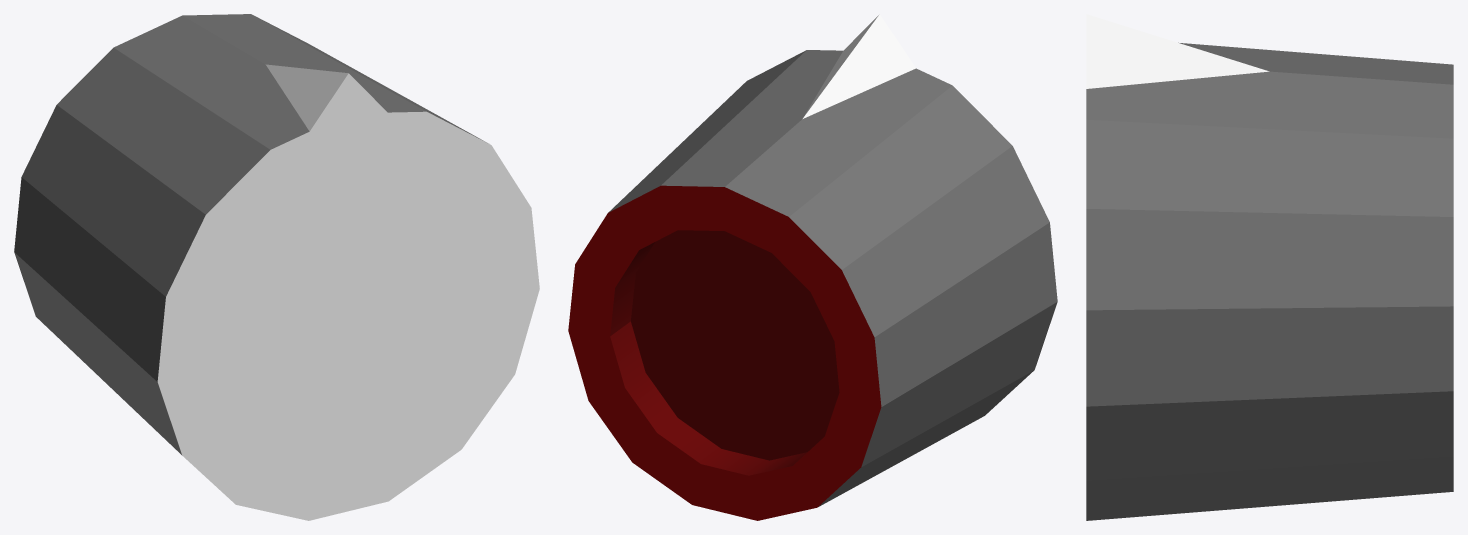
The model's file is Time.fbx.
3 views of the same model, side by side, from view 1: azimuth 30°, elevation 25°; view 2: azimuth 150°, elevation 25°; view 3: azimuth 270°, elevation 25° (orthographic). The views are drawn at different scales.
Visible parts, largest first — view 1: Time; view 2: Time; view 3: Time.
Boxes of the visible parts, box(x1,y1,x2,y2) form: Time: box(14, 14, 539, 520); Time: box(568, 14, 1057, 520); Time: box(1086, 14, 1453, 520).
Size of the model in its own units: 1.99 by 2.18 by 1.5.
